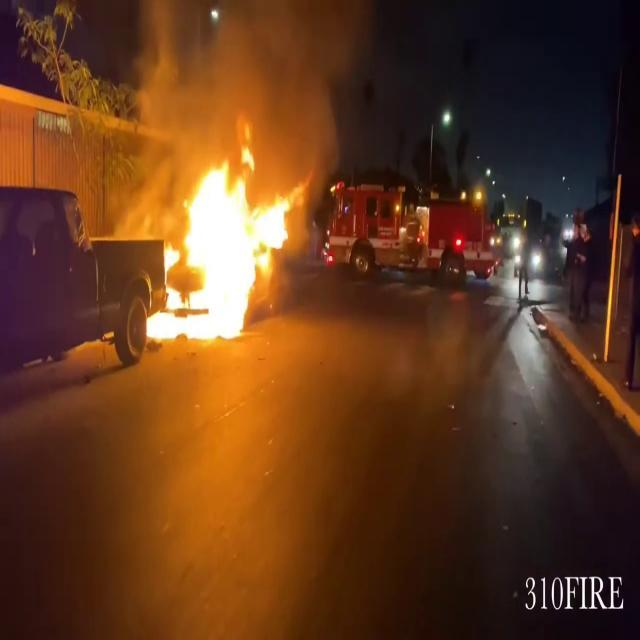Fire: (142, 132, 300, 348)
Smoke: (133, 0, 374, 166)
